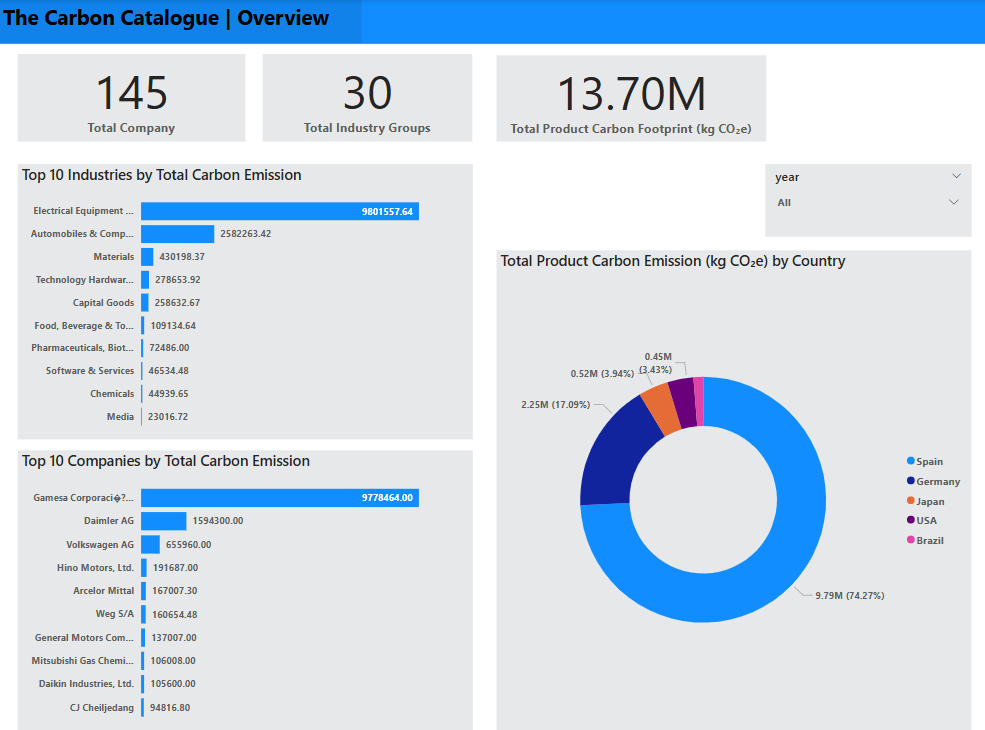

What the dashboard file says about the page in this screenshot:
{"tool":"powerbi","page":{"name":"Overview ","canvas":[1280,960],"ordinal":0},"visuals":[{"type":"card","fields":{"Values":["Carbon_foot_print.Total Company"]},"box":[23.3,70,292.7,112.4],"z":0},{"type":"card","fields":{"Values":["Carbon_foot_print.Total Industry Groups"]},"box":[339.3,70,269.3,112.4],"z":1000},{"type":"card","fields":{"Values":["Carbon_foot_print.TotalPCF(kg CO2 e)"]},"box":[640.2,72.4,347.5,111],"z":2000},{"type":"slicer","fields":{"Values":["Carbon_foot_print.year"]},"box":[986.1,212.3,265.4,93.3],"z":3000},{"type":"barChart","title":"Top 10 Companies by Total Carbon Emission","fields":{"Category":["Carbon_foot_print.company"],"Y":["Carbon_foot_print.Total Carbon Emissions"]},"box":[23.3,581.1,585.3,360.5],"z":4000},{"type":"barChart","title":"Top 10 Industries by Total Carbon Emission","fields":{"Y":["Carbon_foot_print.Total Carbon Emissions"],"Category":["Carbon_foot_print.industry_group"]},"box":[23.3,212.1,585.3,354.2],"z":5000},{"type":"donutChart","title":"Total Product Carbon Emission (kg CO₂e) by Country","fields":{"Category":["Carbon_foot_print.country"],"Y":["Carbon_foot_print.Total Product Carbon Footprint (kg CO₂e)"]},"box":[640.2,323.3,611.3,617.7],"z":6000},{"type":"shape","box":[0,0,1281,57.3],"z":7000},{"type":"textbox","box":[0,0,466.5,56.3],"z":8000}]}

Visuals, with their boxes in screenshot pixels (x1, y1, x2, y2), scaled from the page's 1280x960 canvas onto the 985x730 screenshot:
card - Carbon_foot_print.Total Company: [x1=18, y1=53, x2=243, y2=139]
card - Carbon_foot_print.Total Industry Groups: [x1=261, y1=53, x2=468, y2=139]
card - Carbon_foot_print.TotalPCF(kg CO2 e): [x1=493, y1=55, x2=760, y2=139]
slicer - Carbon_foot_print.year: [x1=759, y1=161, x2=963, y2=232]
"Top 10 Companies by Total Carbon Emission" barChart: [x1=18, y1=442, x2=468, y2=716]
"Top 10 Industries by Total Carbon Emission" barChart: [x1=18, y1=161, x2=468, y2=431]
"Total Product Carbon Emission (kg CO₂e) by Country" donutChart: [x1=493, y1=246, x2=963, y2=716]
shape: [x1=0, y1=0, x2=984, y2=44]
textbox: [x1=0, y1=0, x2=359, y2=43]
